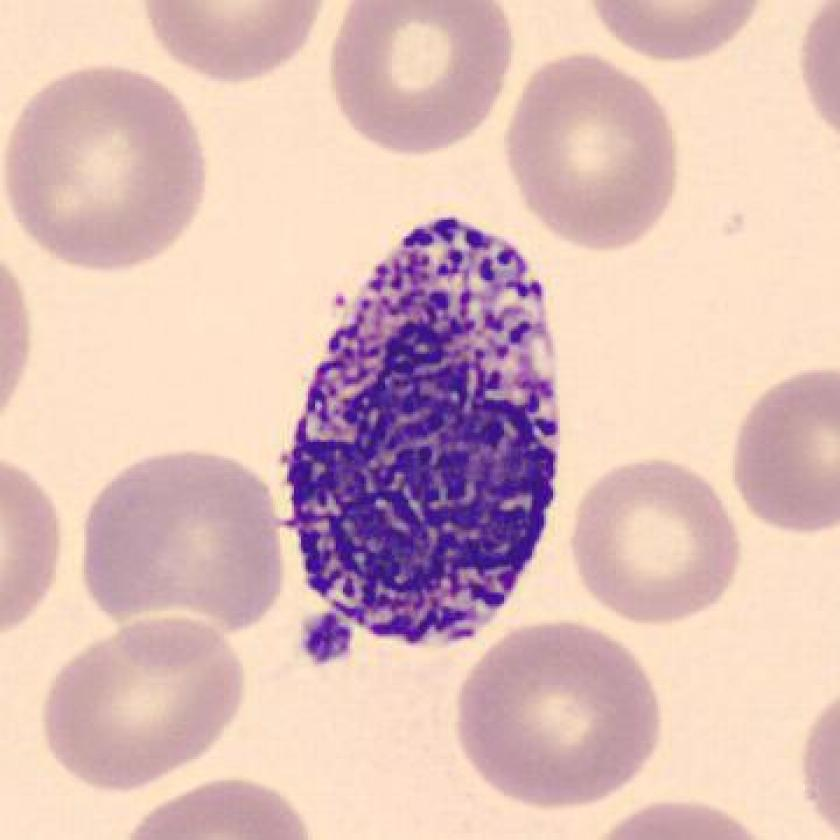basophil: (283, 207, 568, 658)
